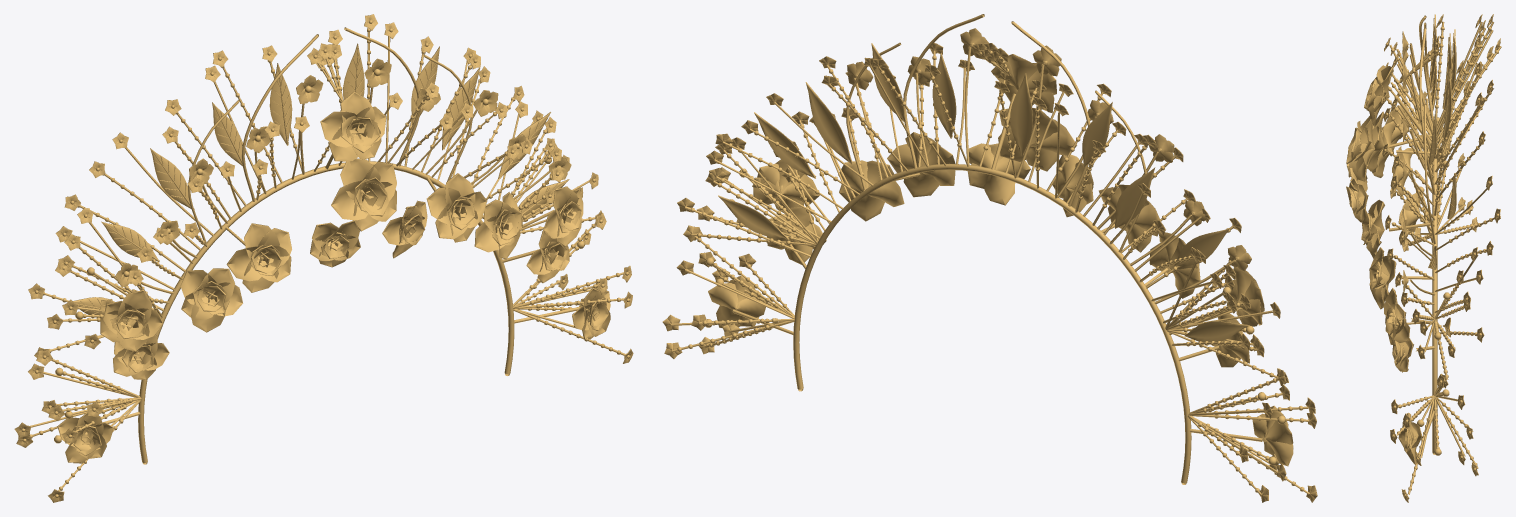
Rendered from floral-crown.glb.
3 views of the same model, side by side, from view 1: azimuth 30°, elevation 25°; view 2: azimuth 150°, elevation 25°; view 3: azimuth 270°, elevation 25° (orthographic). The views are drawn at different scales.
Parts seen in each view (by area): view 1: piece_Gold; view 2: piece_Gold; view 3: piece_Gold.
Boxes of the visible parts, x1=… form: piece_Gold: x1=14, y1=14, x2=633, y2=502; piece_Gold: x1=662, y1=14, x2=1317, y2=502; piece_Gold: x1=1346, y1=14, x2=1501, y2=502.
Size of the model in its own units: 0.2546 by 0.1631 by 0.0648.
